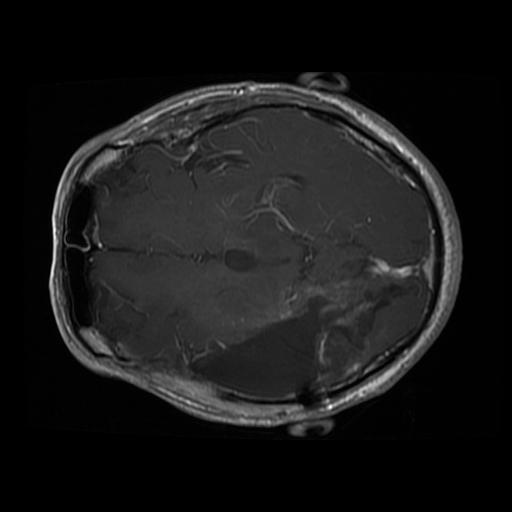glioma: (189, 236, 417, 402)
